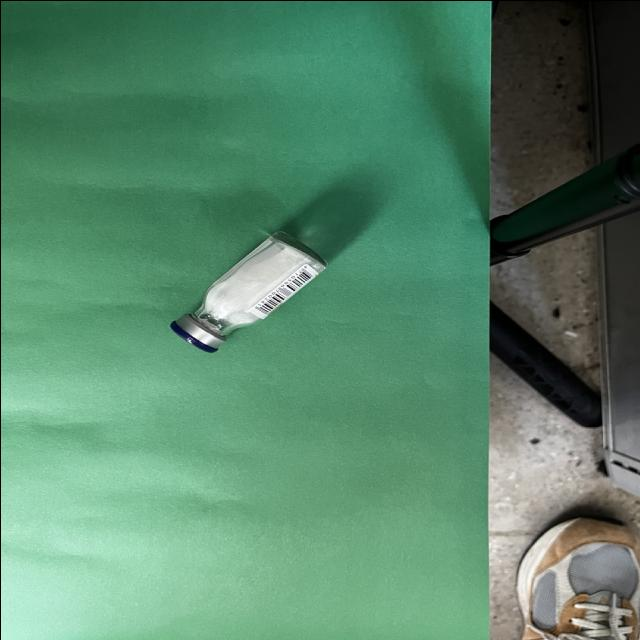Vials: (167, 229, 327, 352)
